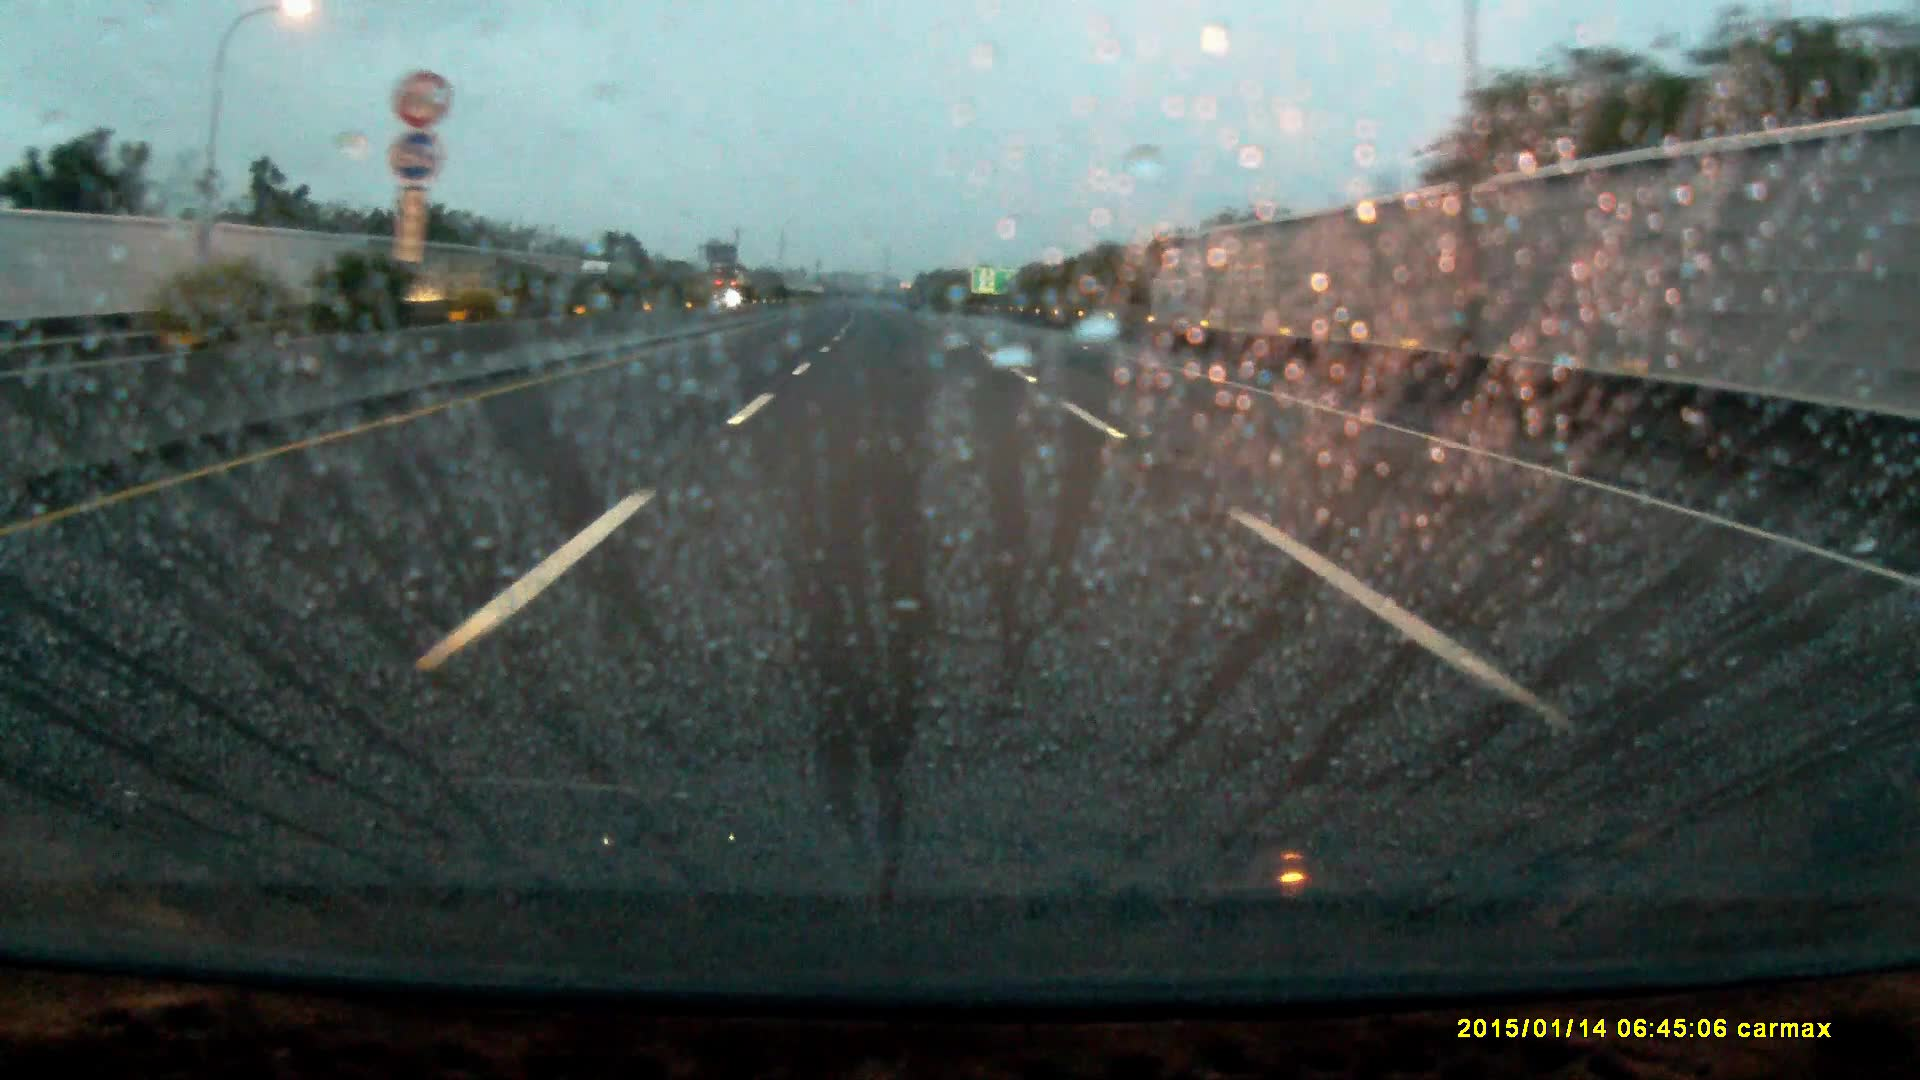vehicle: (576, 258, 632, 299), (713, 276, 749, 305)
